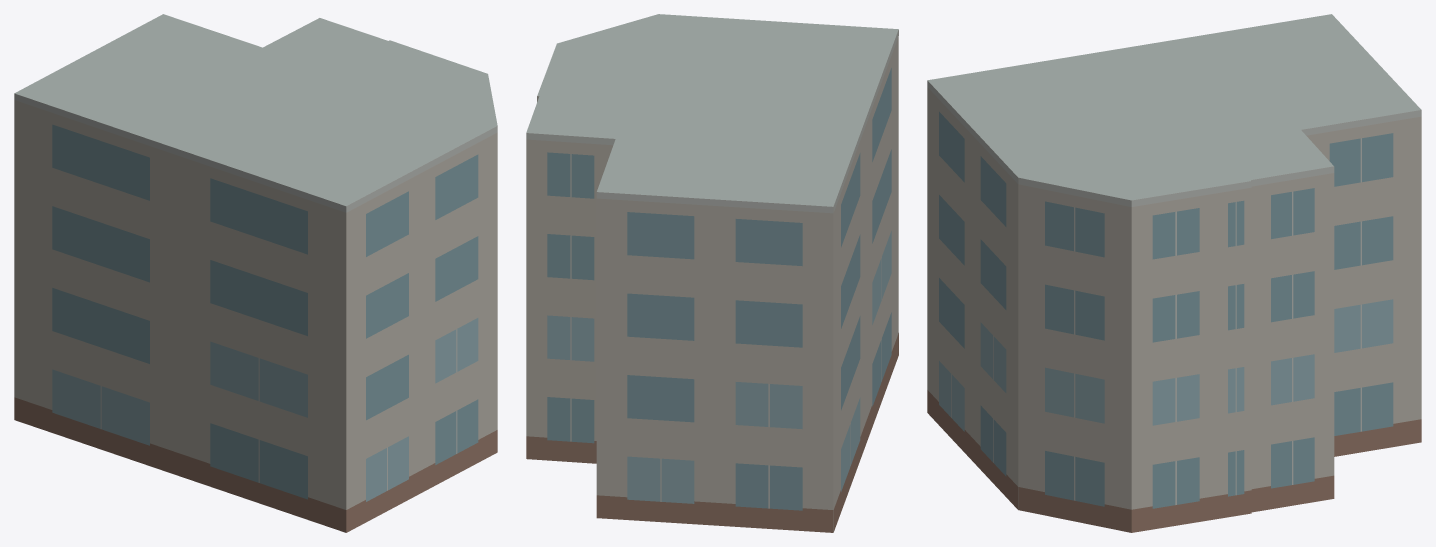
Rendered from survey-upis-32853737.glb.
3 views of the same model, side by side, from view 1: azimuth 30°, elevation 25°; view 2: azimuth 150°, elevation 25°; view 3: azimuth 270°, elevation 25° (orthographic).
Visible parts, largest first — view 1: survey-upis-32853737.tmp; view 2: survey-upis-32853737.tmp; view 3: survey-upis-32853737.tmp.
Boxes of the visible parts, left/top/right/bottom form: survey-upis-32853737.tmp: left=14, top=14, right=497, bottom=532; survey-upis-32853737.tmp: left=526, top=14, right=898, bottom=532; survey-upis-32853737.tmp: left=927, top=14, right=1421, bottom=532.
Bounding box in the file's own units: 14.69 × 12.2 × 16.45.
